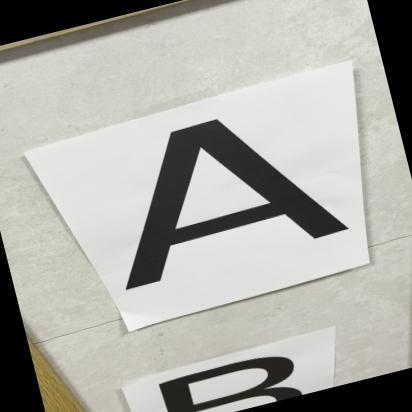seat: (81, 82, 356, 300)
